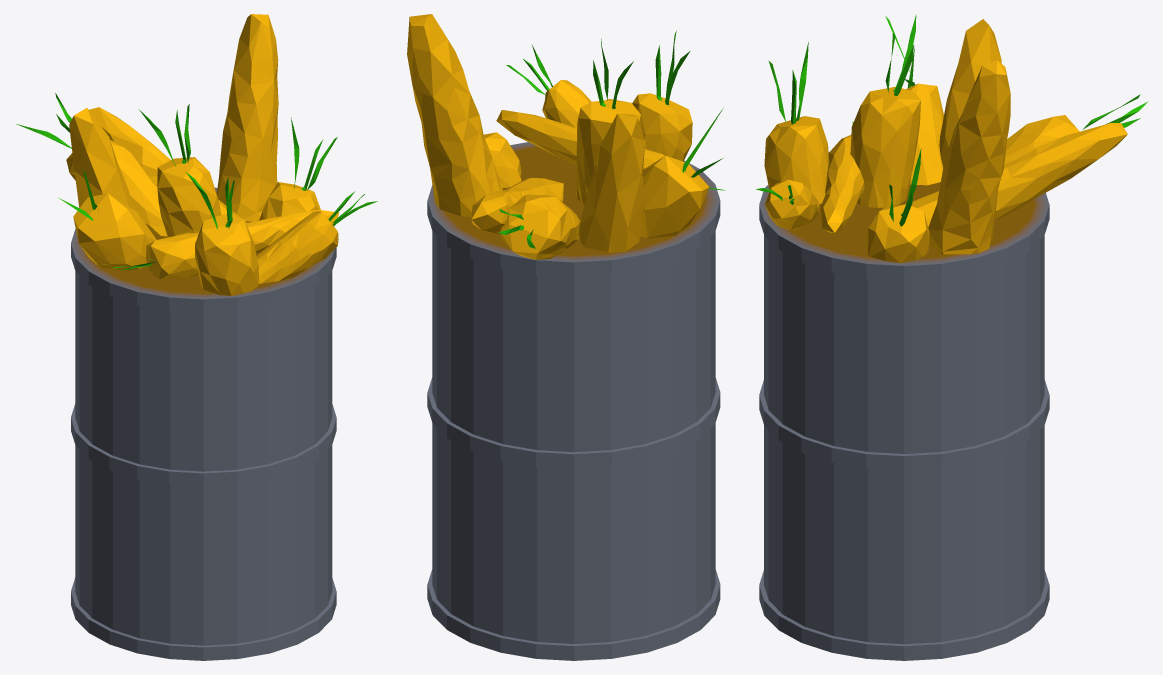
Rendered from CarrotBarrel1.glb.
The picture shows the model from 3 angles, left to right: view 1: azimuth 30°, elevation 25°; view 2: azimuth 150°, elevation 25°; view 3: azimuth 270°, elevation 25°; orthographic projection. The views are drawn at different scales.
Visible parts, largest first — view 1: Cylinder (×2), Carrot (×10); view 2: Cylinder (×2), Carrot (×10); view 3: Cylinder (×2), Carrot (×10).
Boxes of the visible parts, <box> form: Cylinder (×2): <box>71,187,336,660</box>; Carrot (×10): <box>16,14,377,295</box>; Cylinder (×2): <box>427,142,720,660</box>; Carrot (×10): <box>407,14,725,259</box>; Cylinder (×2): <box>759,152,1049,660</box>; Carrot (×10): <box>756,14,1147,263</box>.
Size of the model in its own units: 0.7829 by 1.49 by 0.9078.
